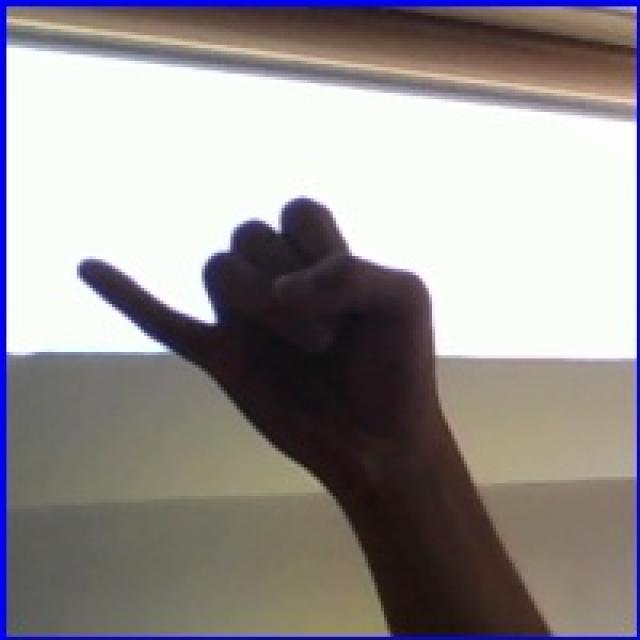J: (36, 126, 533, 472)
